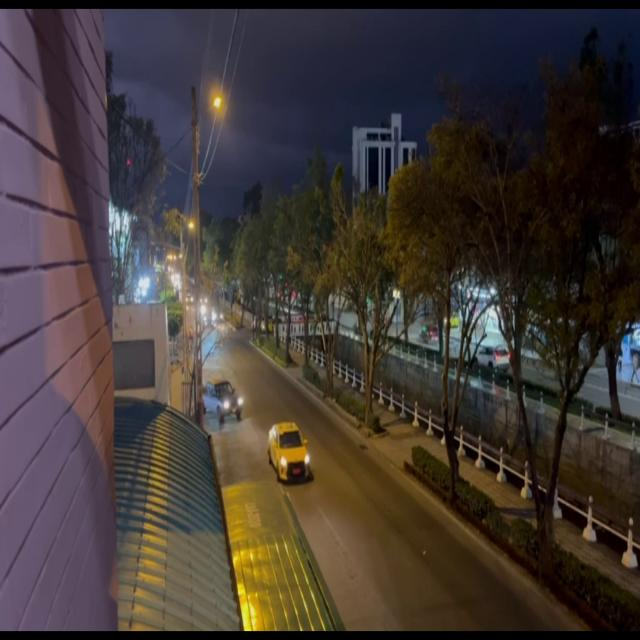CMT: (202, 379, 243, 430)
